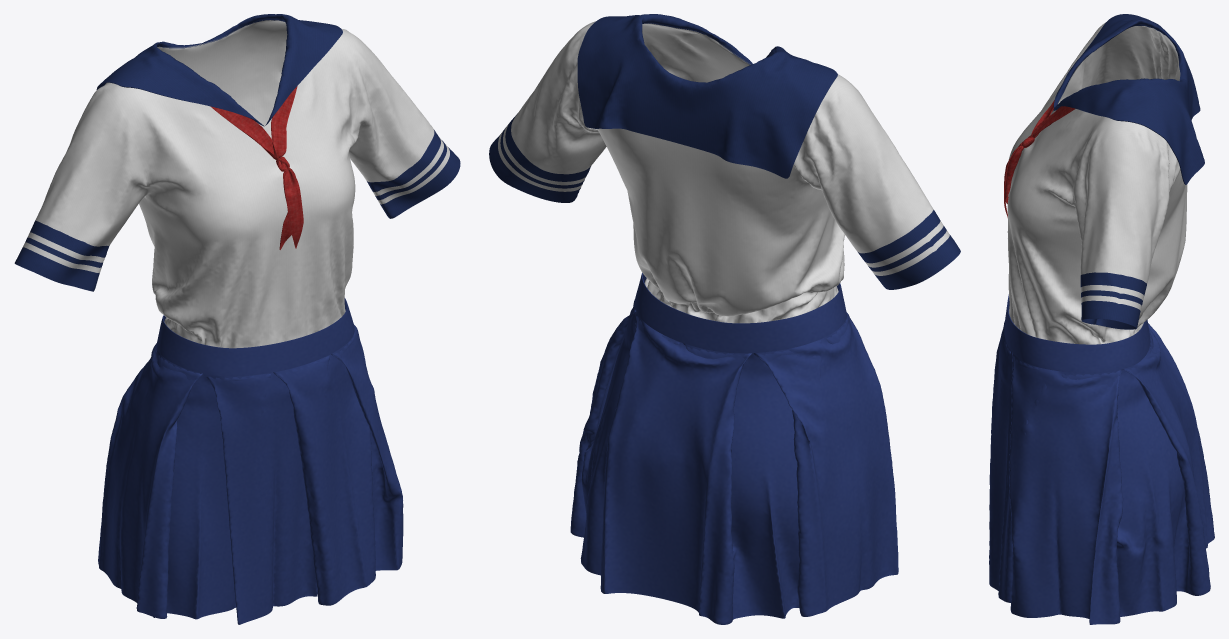
The model's file is uniform.glb.
3 views of the same model, side by side, from view 1: azimuth 30°, elevation 25°; view 2: azimuth 150°, elevation 25°; view 3: azimuth 270°, elevation 25° (orthographic). The views are drawn at different scales.
Visible parts, largest first — view 1: Object_4, Object_7, Object_5, Object_3, Object_8, Object_2, Object_6; view 2: Object_7, Object_3, Object_5, Object_4, Object_8, Object_6; view 3: Object_7, Object_4, Object_5, Object_3, Object_8, Object_6, Object_2.
Part boxes in pixels (x1,y1,x2,y2): Object_4: (22, 28, 449, 348); Object_7: (98, 326, 403, 624); Object_5: (14, 14, 460, 291); Object_3: (96, 20, 287, 329); Object_8: (156, 299, 361, 595); Object_2: (210, 86, 303, 249); Object_6: (118, 298, 374, 617); Object_7: (570, 299, 898, 624); Object_3: (572, 23, 836, 323); Object_5: (489, 14, 960, 289); Object_4: (498, 21, 949, 321); Object_8: (631, 274, 852, 594); Object_6: (581, 273, 857, 607); Object_7: (989, 320, 1214, 624); Object_4: (1007, 22, 1186, 344); Object_5: (1053, 14, 1204, 329); Object_3: (1058, 26, 1187, 344); Object_8: (1004, 297, 1153, 577); Object_6: (1001, 294, 1210, 616); Object_2: (1004, 100, 1075, 217).
Bounding box in the file's own units: 65.14 × 74.83 × 29.43.
4 materials, 4 textured.
